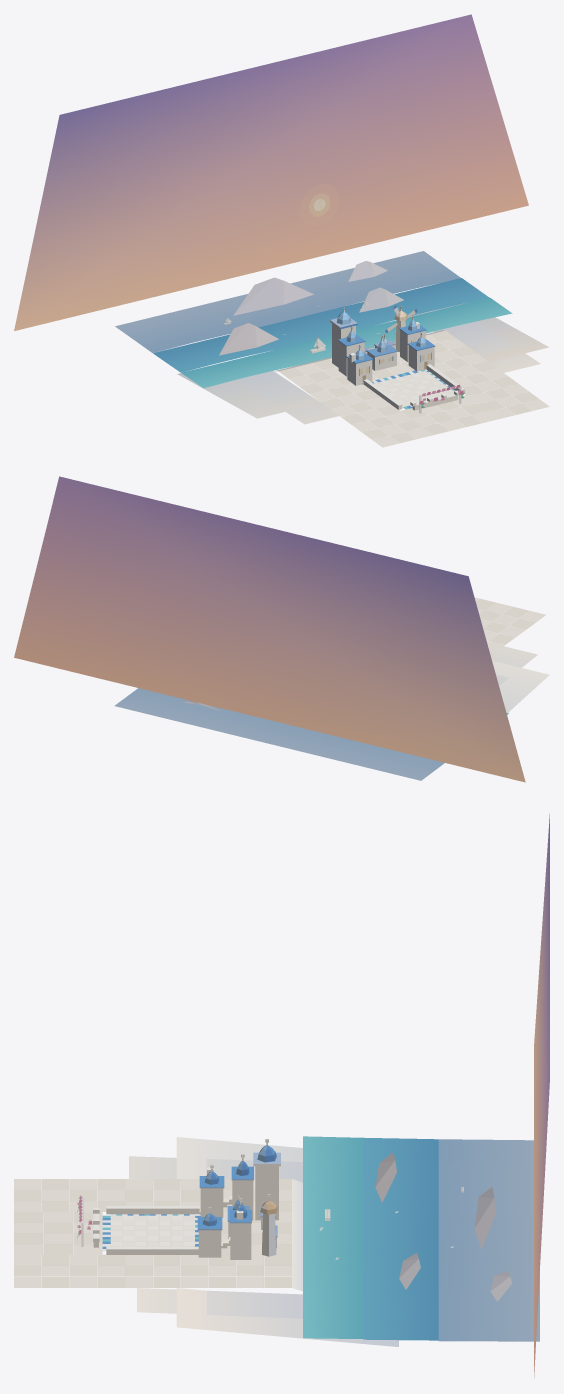
The model's file is env_harbor.glb.
3 renders of one model, top to bottom at view 1: azimuth 30°, elevation 25°; view 2: azimuth 150°, elevation 25°; view 3: azimuth 270°, elevation 25°, orthographic. The views are drawn at different scales.
Parts seen in each view (by area): view 1: HB_sky, HB_sea, HB_ground, HB_cliffs, HB_islands, HB_houses, HB_sun, HB_tower, HB_stairs; view 2: HB_sky, HB_sea, HB_cliffs, HB_ground; view 3: HB_sea, HB_ground, HB_cliffs, HB_sky, HB_houses, HB_islands, HB_tower, HB_stairs.
Part boxes in pixels (x1,y1,x2,y2): HB_sky: (14, 14, 528, 330); HB_sea: (115, 251, 512, 388); HB_ground: (279, 330, 549, 447); HB_cliffs: (177, 303, 548, 424); HB_islands: (219, 261, 403, 355); HB_houses: (338, 315, 435, 385); HB_sun: (300, 184, 338, 225); HB_tower: (330, 306, 407, 367); HB_stairs: (362, 364, 464, 410); HB_sky: (14, 476, 525, 782); HB_sea: (114, 688, 508, 780); HB_cliffs: (491, 646, 549, 712); HB_ground: (474, 597, 545, 655); HB_sea: (303, 1136, 539, 1341); HB_ground: (14, 1179, 291, 1287); HB_cliffs: (129, 1137, 398, 1346); HB_sky: (534, 814, 549, 1378); HB_houses: (197, 1154, 277, 1259); HB_islands: (375, 1152, 512, 1301); HB_tower: (253, 1139, 280, 1256); HB_stairs: (93, 1196, 232, 1254).
Size of the model in its own units: 40 by 17.1 by 27.
